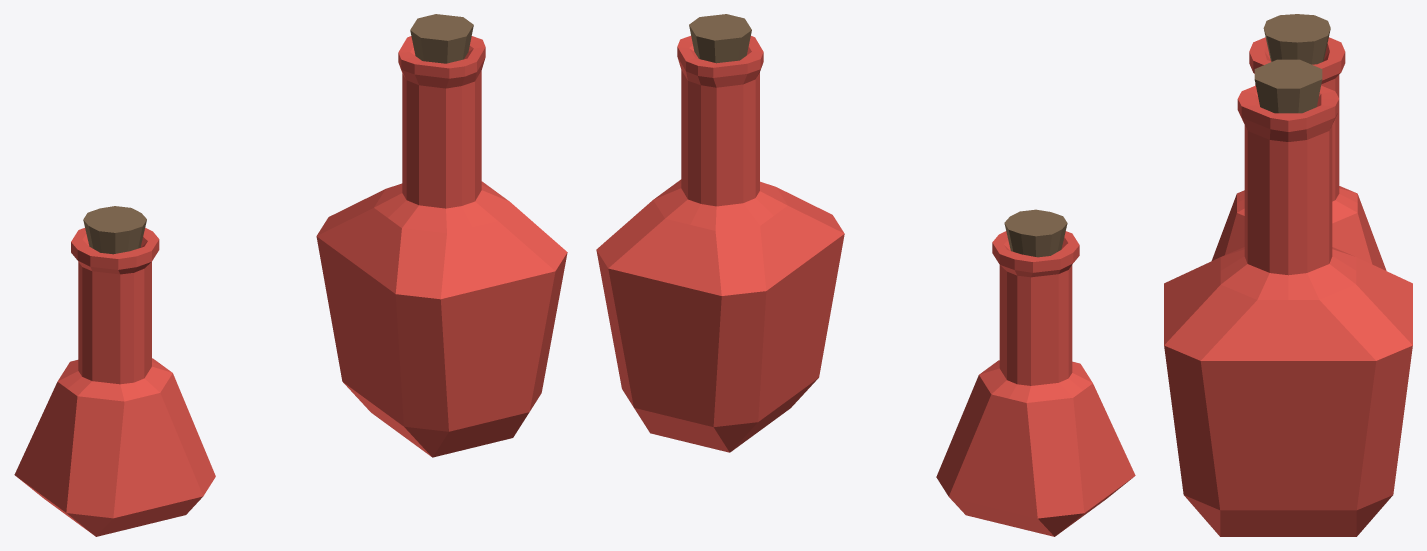
The model's file is game_bottles.glb.
3 renders of one model, left to right at view 1: azimuth 30°, elevation 25°; view 2: azimuth 150°, elevation 25°; view 3: azimuth 270°, elevation 25°, orthographic. The views are drawn at different scales.
Parts seen in each view (by area): view 1: Medium_Red, Small_Red; view 2: Medium_Red, Small_Red; view 3: Medium_Red, Small_Red.
Boxes of the visible parts, x1,y1,x2,y2 form: Medium_Red: (316, 14, 567, 457); Small_Red: (14, 206, 215, 536); Medium_Red: (596, 14, 844, 452); Small_Red: (936, 209, 1135, 536); Medium_Red: (1164, 59, 1412, 536); Small_Red: (1211, 14, 1386, 270).
Size of the model in its own units: 10.75 by 8.57 by 4.32.
